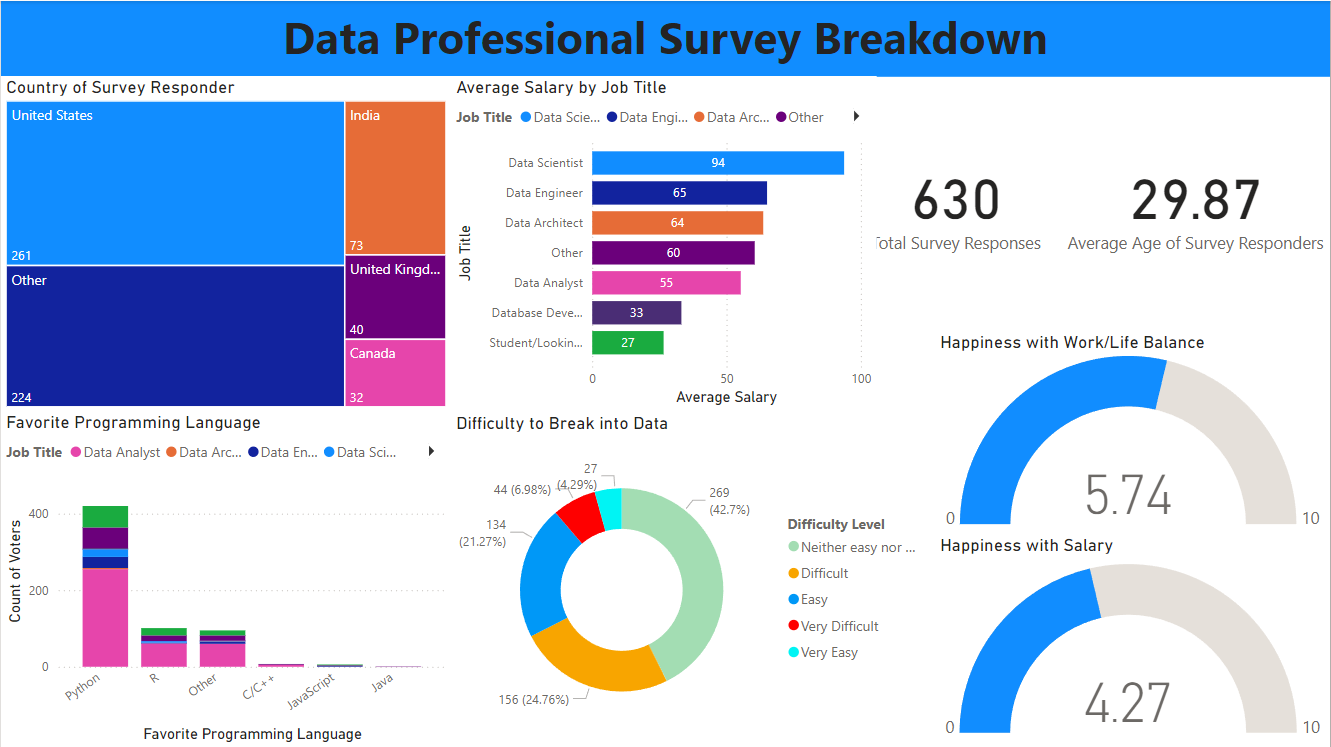

This screenshot's page, from the dashboard's own definition file:
{"tool":"powerbi","page":{"name":"Page 1","canvas":[1280,720],"ordinal":0},"visuals":[{"type":"textbox","box":[0,0,1280,72.6],"z":0},{"type":"card","fields":{"Values":["Count(Data Professional Survey.Unique ID)"]},"box":[830.9,124.5,177.4,140],"z":1000},{"type":"card","fields":{"Values":["Avg(Data Professional Survey.Q10 - Current Age)"]},"box":[1020.7,124.5,259.3,140],"z":2000},{"type":"barChart","title":"Average Salary by Job Title","fields":{"Category":["Data Professional Survey.Q1 - Which Title Best Fits your Current Role?.1"],"Y":["Avg(Data Professional Survey.Average Salary)"],"Series":["Data Professional Survey.Q1 - Which Title Best Fits your Current Role?.1"]},"box":[433.6,72.6,409.7,322.6],"z":3000},{"type":"columnChart","title":"Favorite Programming Language","fields":{"Category":["Data Professional Survey.Q5 - Favorite Programming Language.1"],"Y":["CountNonNull(Data Professional Survey.Unique ID)"],"Series":["Data Professional Survey.Q1 - Which Title Best Fits your Current Role?.1"]},"box":[0,395.2,433.6,324.7],"z":4000},{"type":"treemap","title":"Country of Survey Responder","fields":{"Group":["Data Professional Survey.Q11 - Which Country do you live in?.1"],"Values":["CountNonNull(Data Professional Survey.Q11 - Which Country do you live in?.1)"]},"box":[0,72.6,433.6,323.6],"z":5000},{"type":"gauge","title":"Happiness with Work/Life Balance","fields":{"Y":["Avg(Data Professional Survey.Q6 - How Happy are you in your Current Position with the following? (Work/Life Balance))"],"MinValue":["Min(Data Professional Survey.Q6 - How Happy are you in your Current Position with the following? (Work/Life Balance))1"],"MaxValue":["Max(Data Professional Survey.Q6 - How Happy are you in your Current Position with the following? (Work/Life Balance))2"]},"box":[899.3,317.4,380.7,196],"z":6000},{"type":"gauge","title":"Happiness with Salary","fields":{"Y":["Avg(Data Professional Survey.Q6 - How Happy are you in your Current Position with the following? (Salary))"],"MinValue":["Min(Data Professional Survey.Q6 - How Happy are you in your Current Position with the following? (Salary))"],"MaxValue":["Max(Data Professional Survey.Q6 - How Happy are you in your Current Position with the following? (Salary))"]},"box":[899.3,513.5,380.7,206.4],"z":7000},{"type":"donutChart","title":"Difficulty to Break into Data","fields":{"Category":["Data Professional Survey.Q7 - How difficult was it for you to break into Data?"],"Y":["CountNonNull(Data Professional Survey.Q7 - How difficult was it for you to break into Data?)"]},"box":[433.6,396.2,465.7,323.6],"z":8000}]}

Visuals, with their boxes in screenshot pixels (x1, y1, x2, y2), scaled from the page's 1280x720 canvas onto the 1331x747 screenshot:
textbox: 0,0,1330,75
card - Count(Data Professional Survey.Unique ID): 864,129,1048,274
card - Avg(Data Professional Survey.Q10 - Current Age): 1061,129,1330,274
"Average Salary by Job Title" barChart: 451,75,877,410
"Favorite Programming Language" columnChart: 0,410,451,746
"Country of Survey Responder" treemap: 0,75,451,411
"Happiness with Work/Life Balance" gauge: 935,329,1330,533
"Happiness with Salary" gauge: 935,533,1330,746
"Difficulty to Break into Data" donutChart: 451,411,935,746
